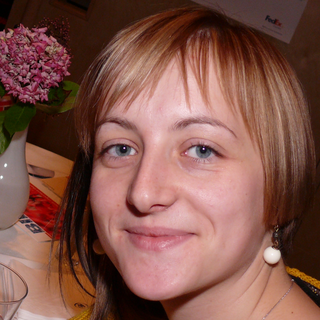eye: (177, 139, 225, 164), (102, 138, 143, 163)
